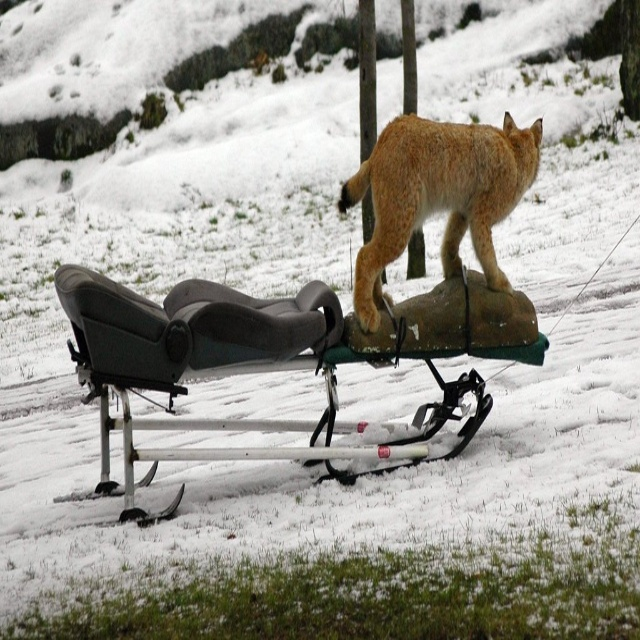Lynx: (336, 108, 545, 337)
